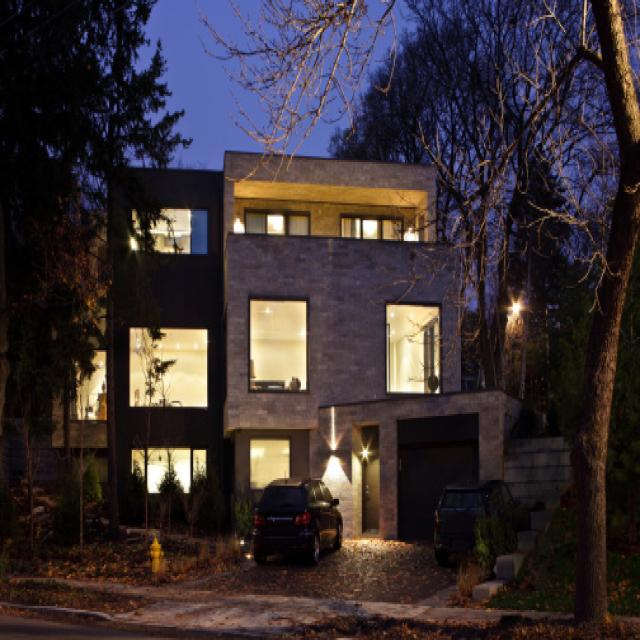Car: (263, 478, 350, 570)
